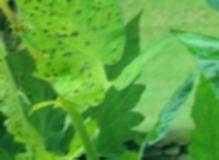Tomato Septoria leaf spot: (0, 0, 128, 122)
